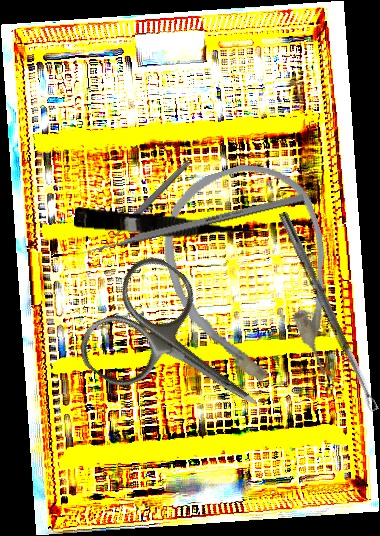Cannula: (144, 147, 364, 412)
Iris Scissors: (69, 247, 294, 459)
Micro Scissor: (73, 206, 264, 248)
Pusher: (75, 192, 305, 259)
Surgical Spoon: (277, 211, 379, 413), (96, 159, 192, 254)
